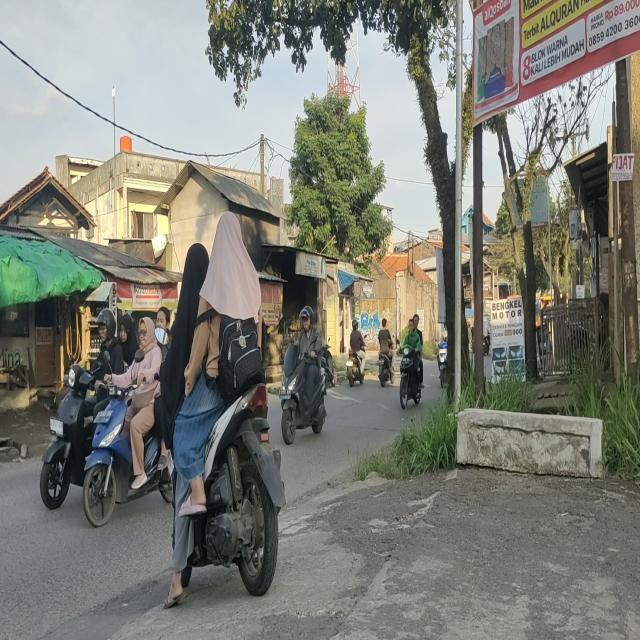helmet: (96, 307, 116, 341), (299, 305, 314, 332), (352, 319, 358, 331)
no-helmet: (214, 211, 244, 257), (184, 243, 211, 290), (139, 316, 155, 348), (119, 316, 134, 343), (157, 304, 170, 332), (408, 319, 415, 333), (381, 317, 388, 329), (413, 314, 419, 328)
